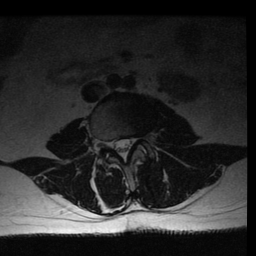CCS_normal: (119, 132, 127, 166)
LFS_severe_stenosis: (135, 130, 142, 149)
LLS_stenosis: (127, 131, 135, 154)
RFS_stenosis: (104, 132, 112, 155)
RLS_normal: (112, 131, 119, 157)
